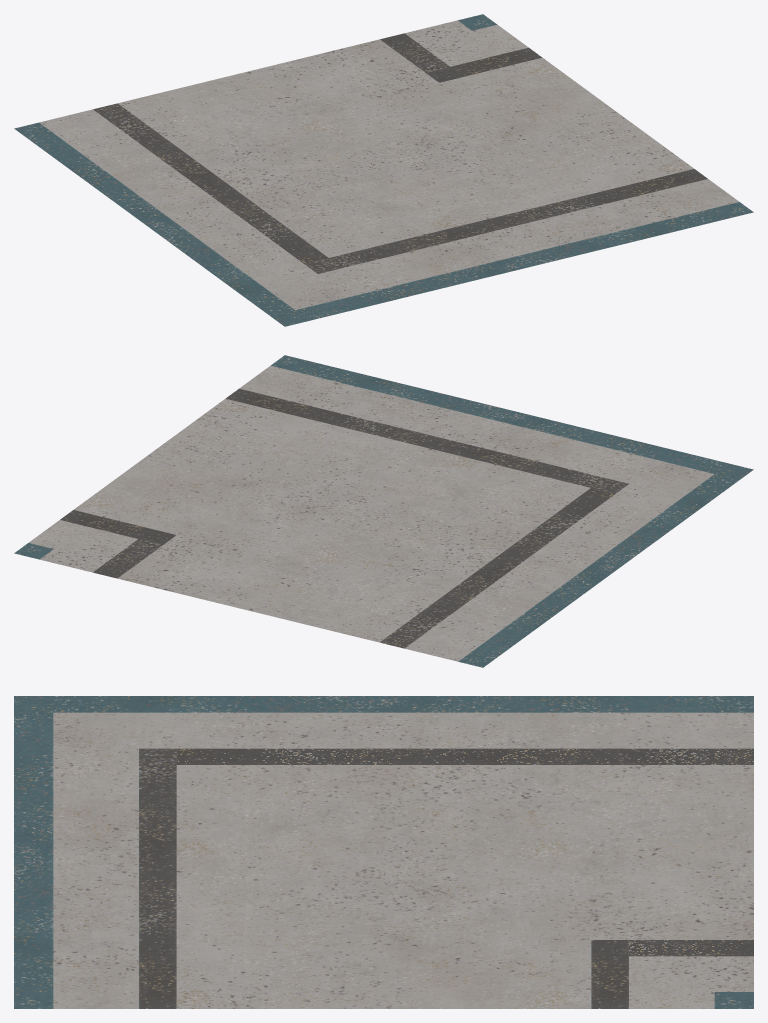
The model's file is HH_Flooring_Concrete_4x4m_05.fbx.
3 views of the same model, one above another, from view 1: azimuth 30°, elevation 25°; view 2: azimuth 150°, elevation 25°; view 3: azimuth 270°, elevation 25° (orthographic). The views are drawn at different scales.
Visible parts, largest first — view 1: HH_Flooring_Concrete_4x4m_05; view 2: HH_Flooring_Concrete_4x4m_05; view 3: HH_Flooring_Concrete_4x4m_05.
Boxes of the visible parts, x1,y1,x2,y2 form: HH_Flooring_Concrete_4x4m_05: (14, 14, 753, 326); HH_Flooring_Concrete_4x4m_05: (14, 355, 753, 667); HH_Flooring_Concrete_4x4m_05: (14, 696, 753, 1008).
Size of the model in its own units: 400 by 0 by 400.
